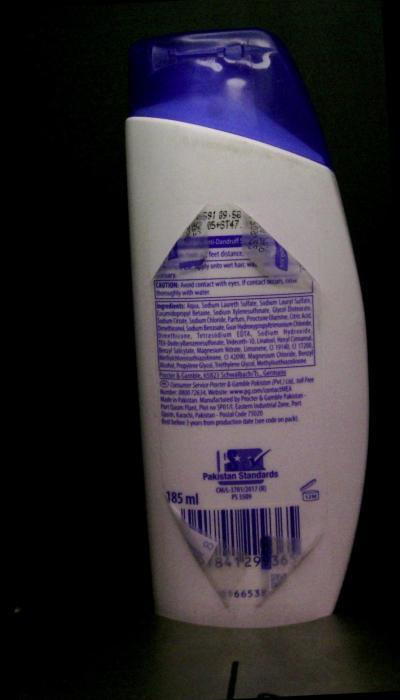adhesion_unacc: (162, 493, 250, 610), (236, 199, 322, 292), (258, 526, 334, 603), (149, 203, 218, 278)
